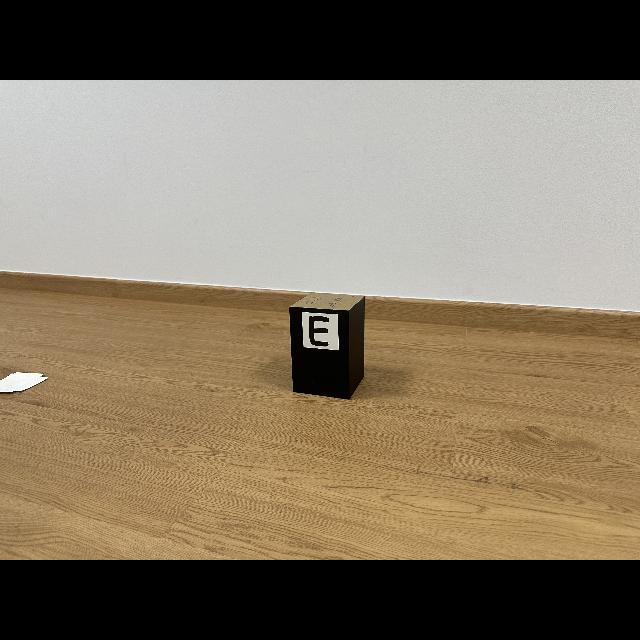E: (309, 315, 329, 346)
